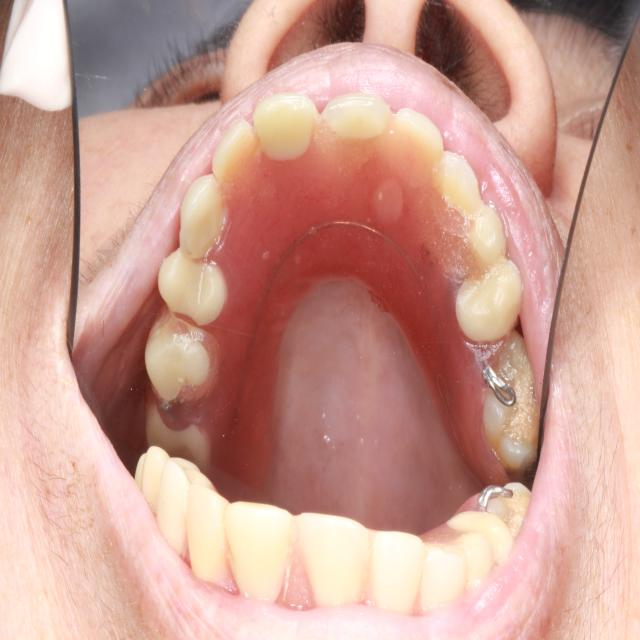tooth: (468, 331, 546, 474), (134, 311, 229, 416), (153, 244, 235, 332), (451, 252, 526, 346), (137, 393, 218, 473), (252, 84, 323, 167), (172, 176, 236, 263), (318, 82, 396, 152), (389, 98, 445, 176), (205, 115, 262, 189), (452, 195, 511, 266), (432, 146, 484, 224)
